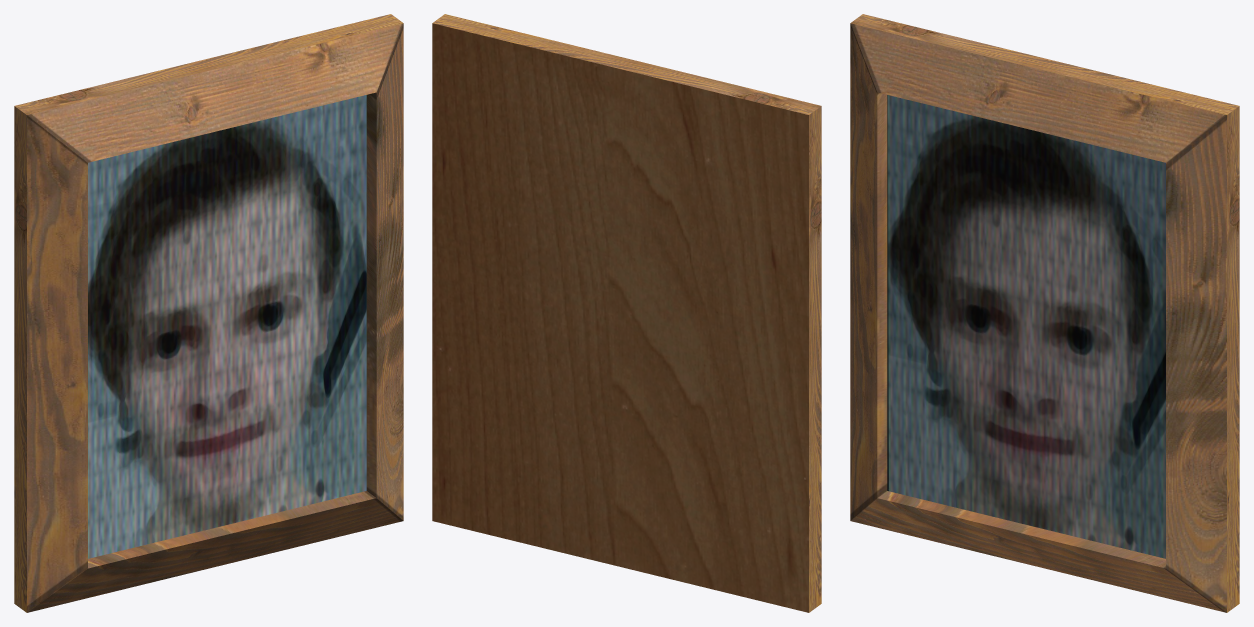
File: Painting.FBX
The picture shows the model from 3 angles, left to right: view 1: azimuth 30°, elevation 25°; view 2: azimuth 150°, elevation 25°; view 3: azimuth 330°, elevation 25°; orthographic projection.
Visible parts, largest first — view 1: Painting; view 2: Painting; view 3: Painting.
Part boxes in pixels (<box>): Painting: <box>14,14,403,612</box>; Painting: <box>432,14,821,612</box>; Painting: <box>850,14,1239,612</box>.
Size of the model in its own units: 35.81 by 4.86 by 45.22.
Materials: 1 (1 with a texture image).
